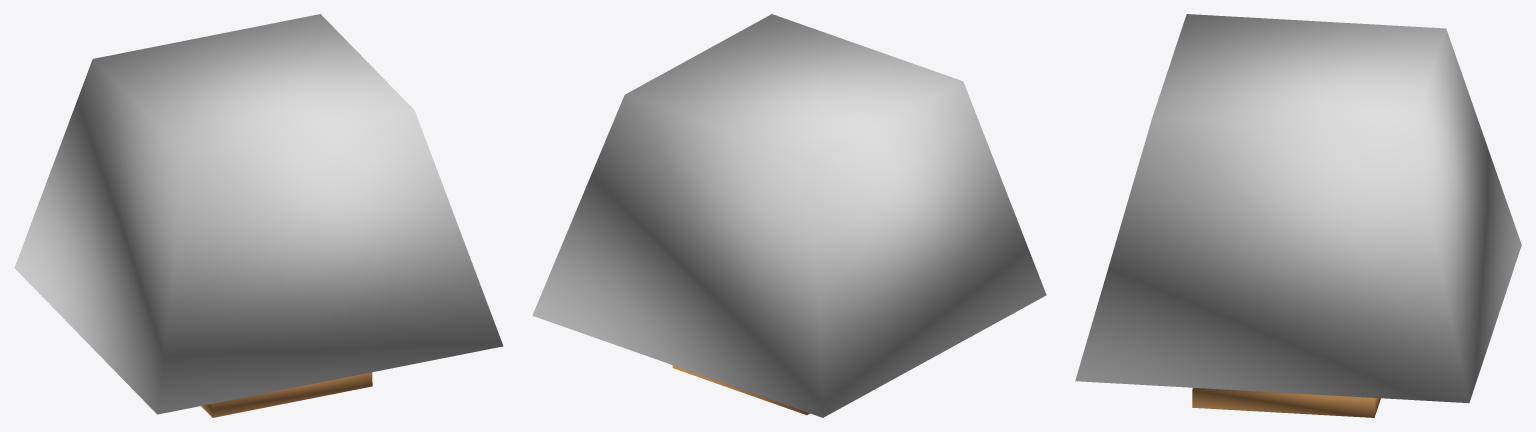
The model's file is Mush.glb.
3 renders of one model, left to right at view 1: azimuth 30°, elevation 25°; view 2: azimuth 150°, elevation 25°; view 3: azimuth 270°, elevation 25°, orthographic. The views are drawn at different scales.
Visible parts, largest first — view 1: Hongo; view 2: Hongo; view 3: Hongo.
Part boxes in pixels (x1,y1,x2,y2): Hongo: (14,14,503,417); Hongo: (532,14,1046,417); Hongo: (1075,14,1521,417).
Bounding box in the file's own units: 4.8 × 3.63 × 4.8.
